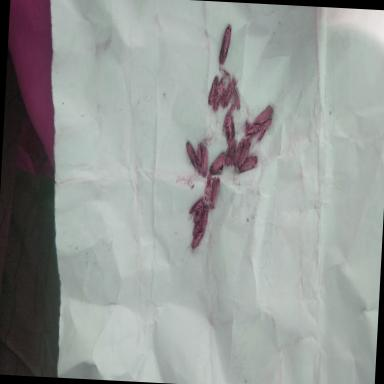pbw: (220, 73, 238, 110), (183, 226, 205, 256), (222, 104, 236, 148), (210, 76, 226, 114), (218, 24, 232, 66), (230, 137, 246, 172), (184, 142, 198, 177), (256, 116, 274, 142), (237, 138, 251, 168), (254, 104, 274, 124), (210, 152, 226, 176), (238, 154, 258, 172), (194, 144, 204, 177), (209, 176, 220, 206), (208, 76, 219, 106), (204, 176, 215, 204), (244, 122, 261, 140), (200, 146, 209, 178), (192, 214, 204, 238), (225, 143, 236, 168), (193, 202, 205, 224), (232, 87, 242, 110), (201, 205, 208, 232)
